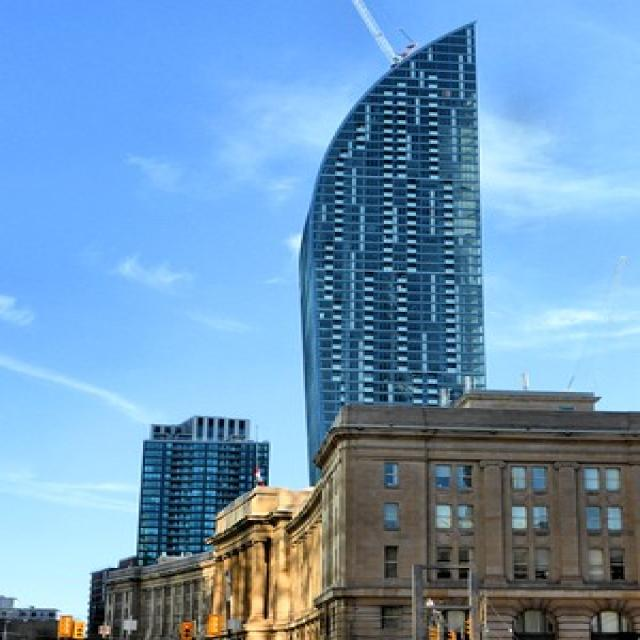building: (302, 16, 502, 494), (133, 416, 272, 594)
